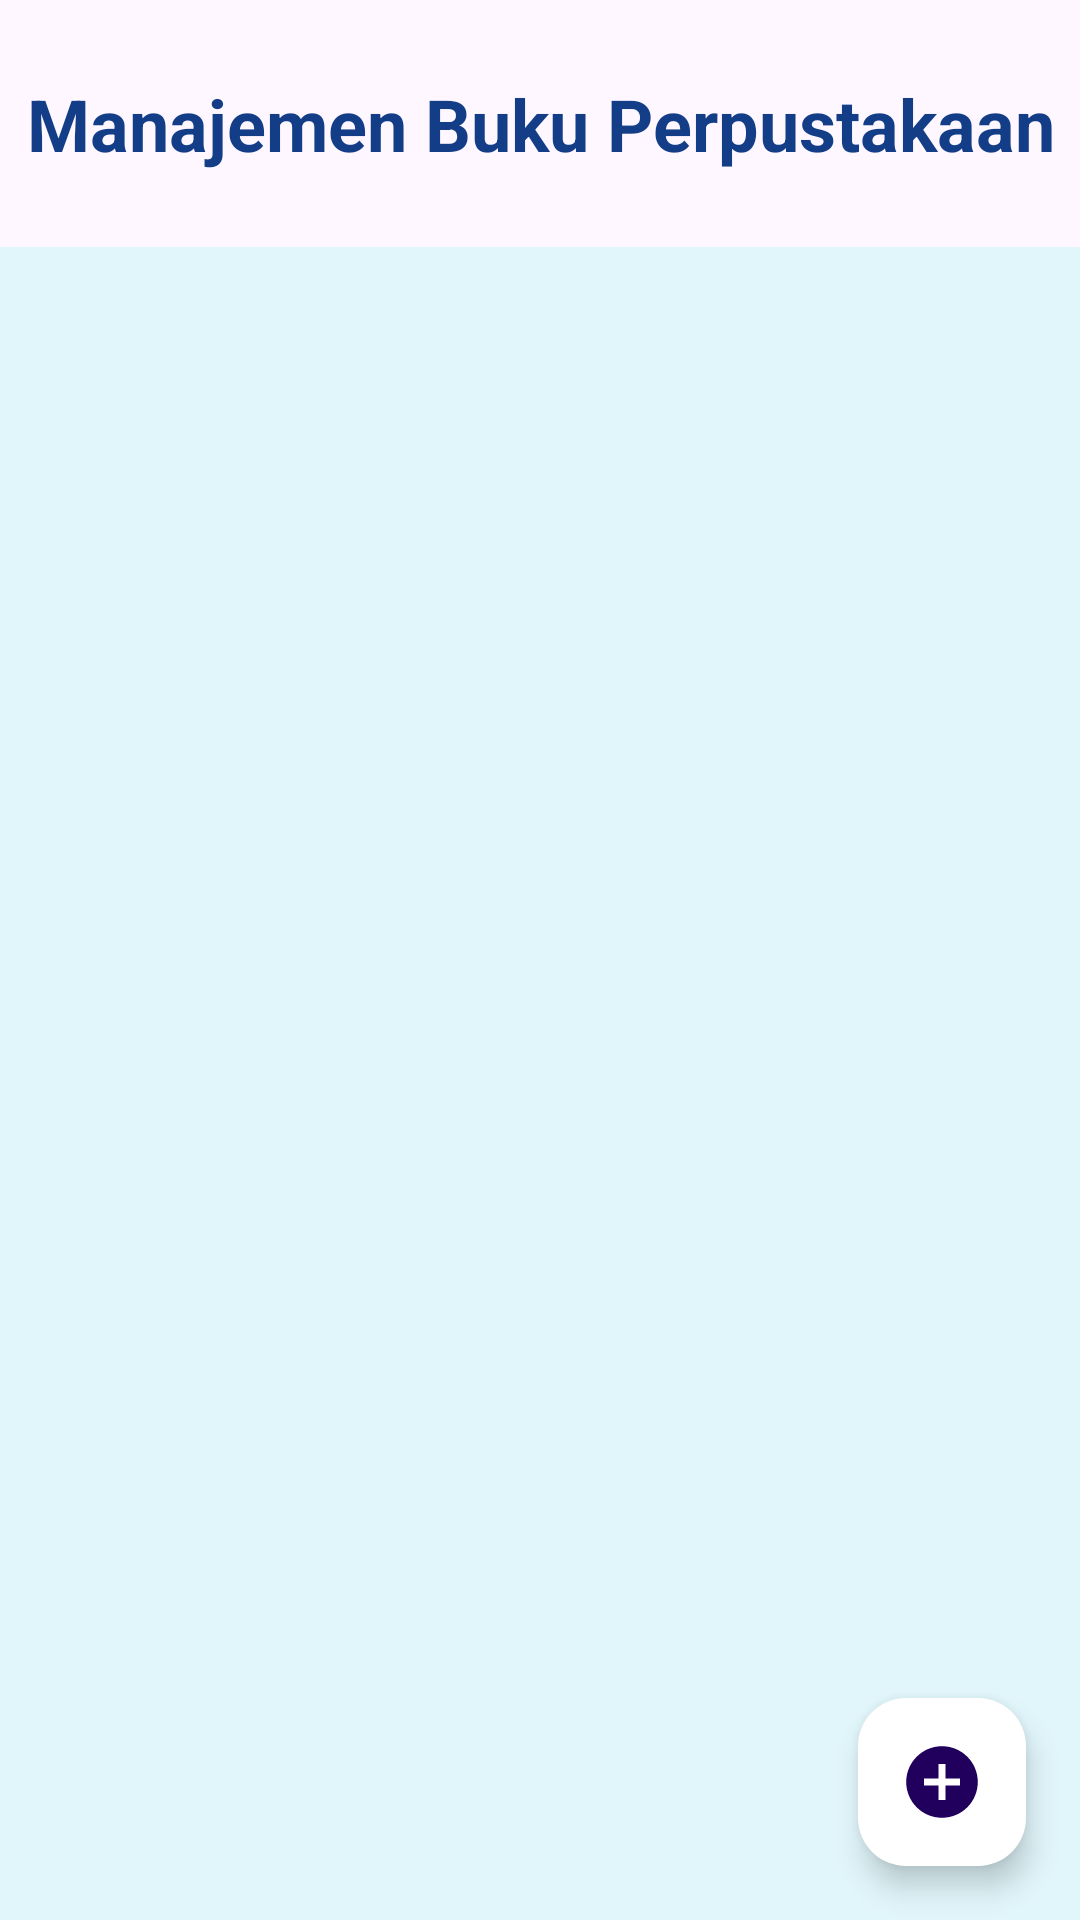

Icons on this 1080w x 1920h Android screen, each with its box as bbox(x1, y1, x2, y2):
add book: bbox(858, 1698, 1026, 1866)
